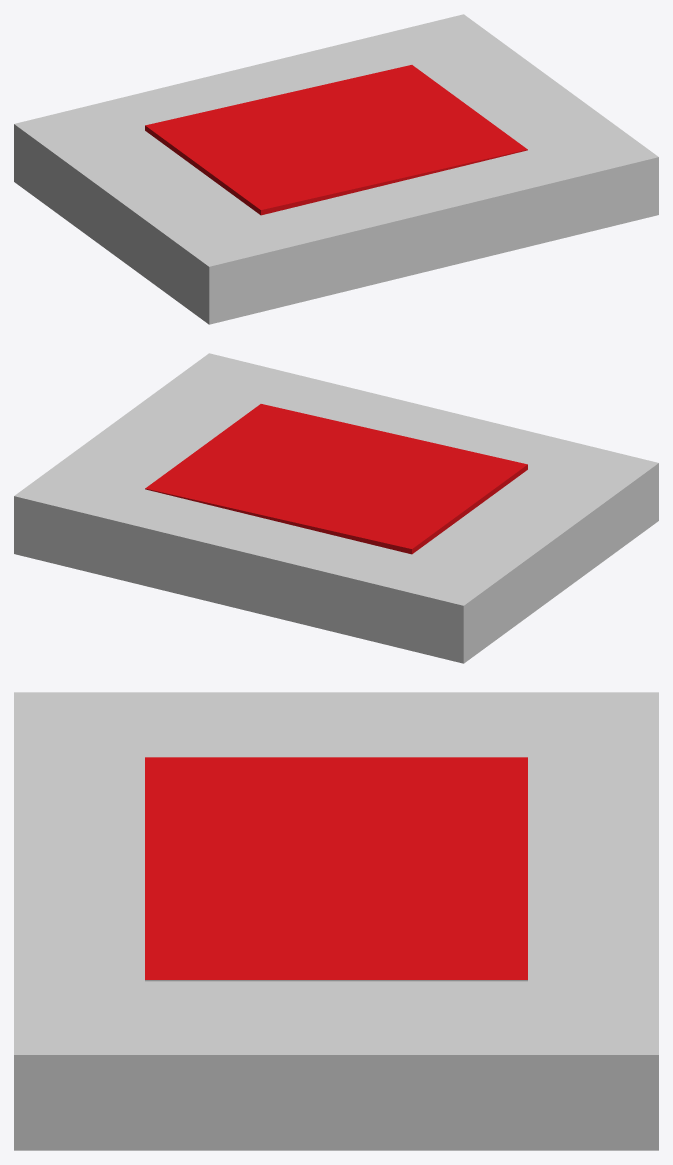
The model's file is Pedal On.fbx.
The picture shows the model from 3 angles, top to bottom: view 1: azimuth 30°, elevation 25°; view 2: azimuth 150°, elevation 25°; view 3: azimuth 270°, elevation 25°; orthographic projection. The views are drawn at different scales.
Parts seen in each view (by area): view 1: Pedal; view 2: Pedal; view 3: Pedal.
Boxes of the visible parts, x1,y1,x2,y2 form: Pedal: (14,14,658,324); Pedal: (14,353,658,663); Pedal: (14,692,658,1150).
Size of the model in its own units: 0.5746 by 0.0772 by 0.4319.
